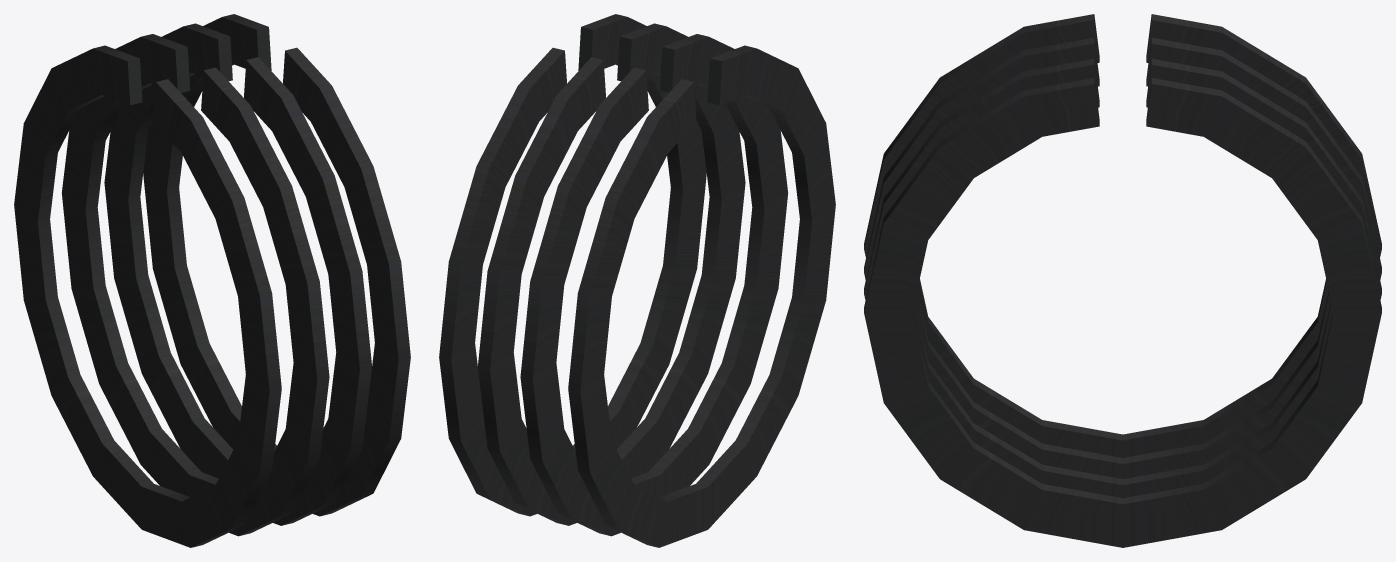
File: Handguard_Slip_Ring_Spring.dae
3 renders of one model, left to right at view 1: azimuth 30°, elevation 25°; view 2: azimuth 150°, elevation 25°; view 3: azimuth 270°, elevation 25°, orthographic.
Visible parts, largest first — view 1: Handguard_Slip_Ring_Spring; view 2: Handguard_Slip_Ring_Spring; view 3: Handguard_Slip_Ring_Spring.
Part boxes in pixels (box(x1,y1,x2,y2)): Handguard_Slip_Ring_Spring: box(14, 14, 410, 547); Handguard_Slip_Ring_Spring: box(439, 14, 835, 547); Handguard_Slip_Ring_Spring: box(864, 14, 1381, 547).
Size of the model in its own units: 0.0137 by 0.0428 by 0.0423.
1 material, 1 textured.
